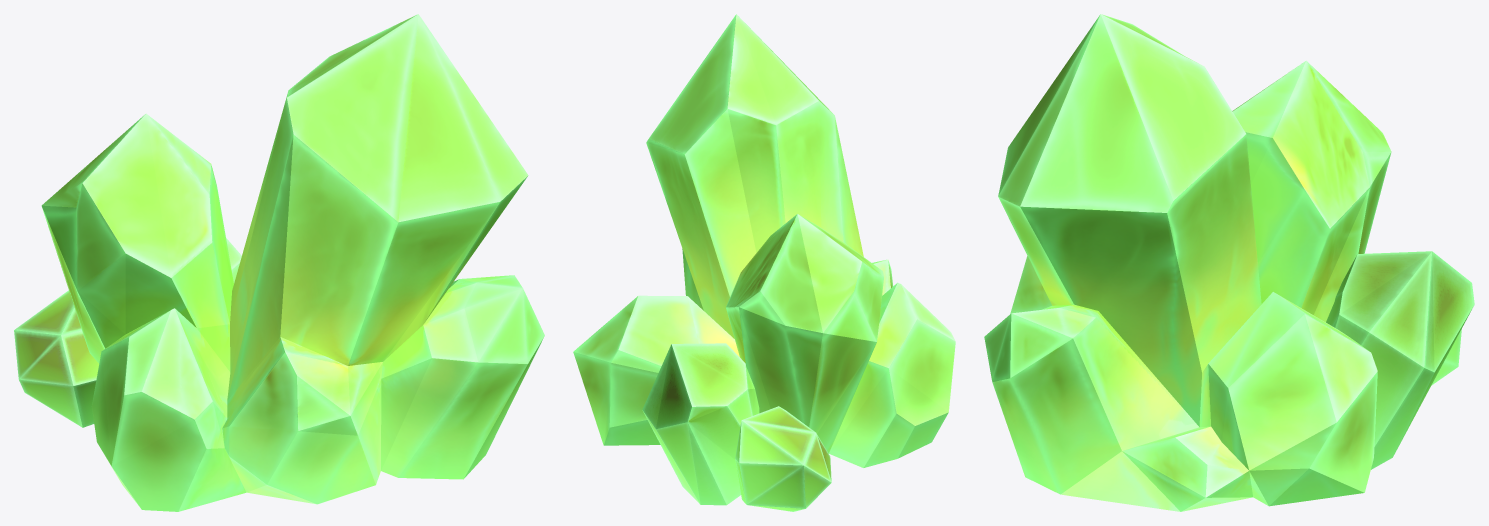
File: crystal_chunk_002.fbx
3 renders of one model, left to right at view 1: azimuth 30°, elevation 25°; view 2: azimuth 150°, elevation 25°; view 3: azimuth 270°, elevation 25°, orthographic. The views are drawn at different scales.
Visible parts, largest first — view 1: crystal_chunk.002; view 2: crystal_chunk.002; view 3: crystal_chunk.002.
Boxes of the visible parts, x1,y1,x2,y2 form: crystal_chunk.002: (14, 14, 544, 511); crystal_chunk.002: (573, 14, 955, 511); crystal_chunk.002: (984, 14, 1474, 511).
Size of the model in its own units: 12.17 by 13.58 by 12.22.
